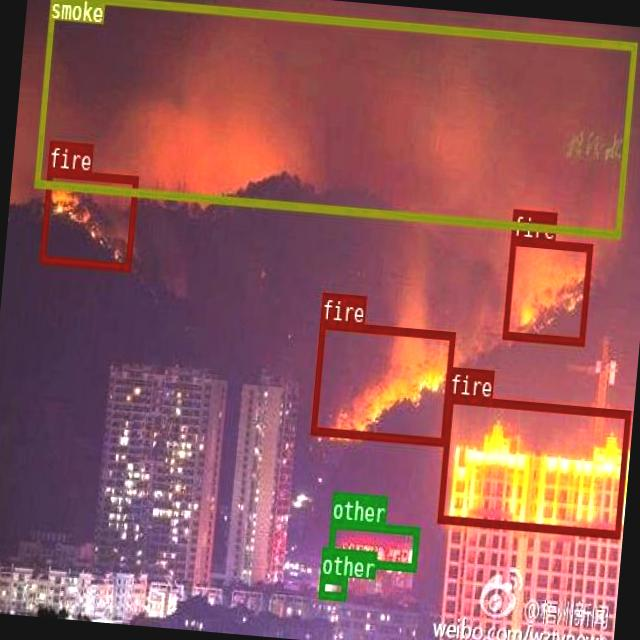fire: (436, 393, 628, 536), (310, 318, 454, 444), (38, 167, 136, 270), (502, 235, 592, 344)
smoke: (32, 0, 635, 236)
